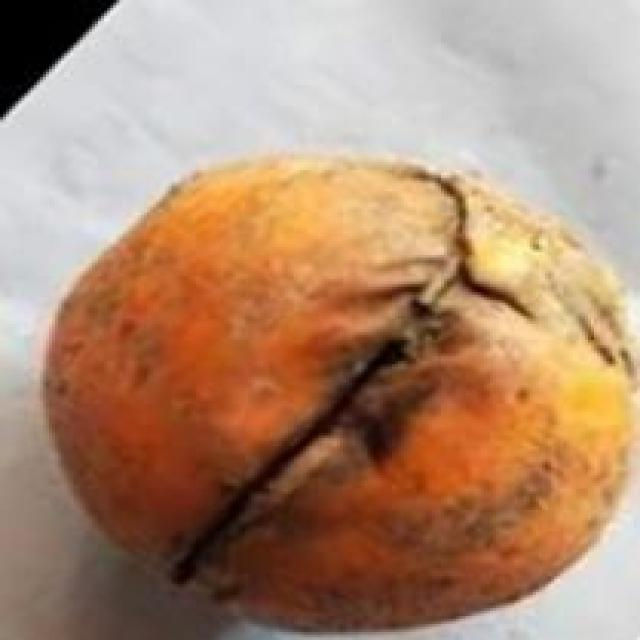damaged: (37, 151, 637, 635)
